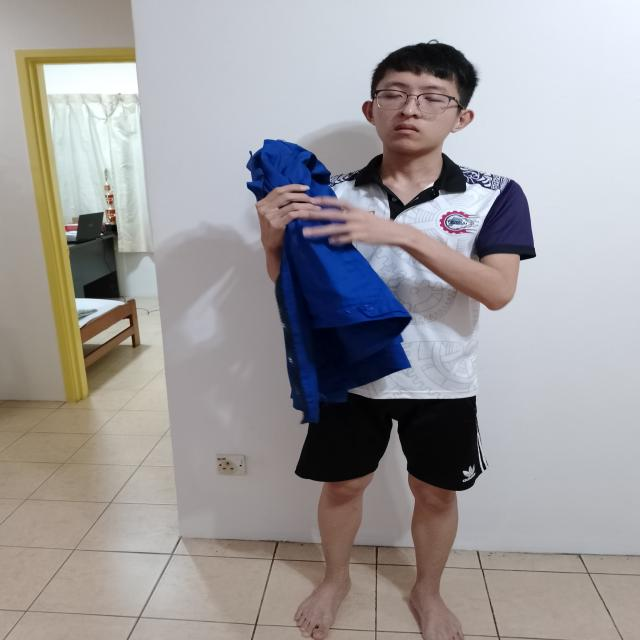person_without_labcoat: (247, 41, 535, 640)
